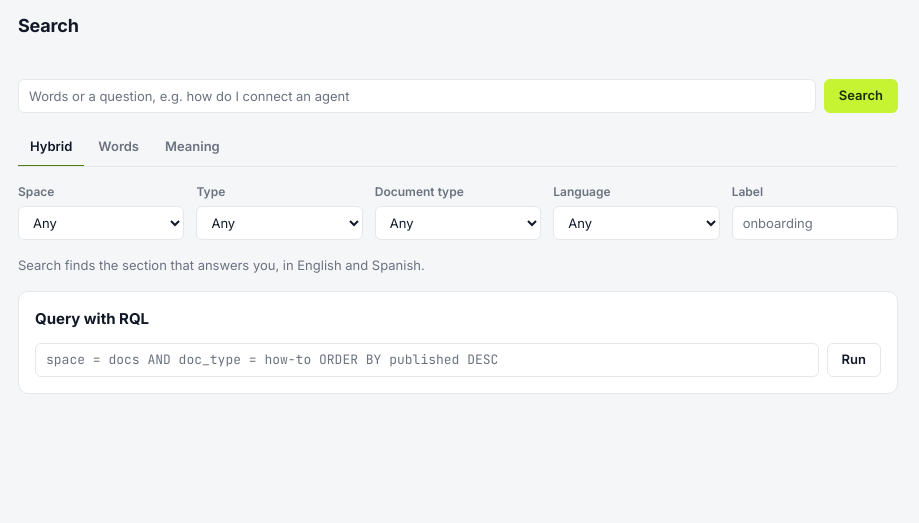
FolioSearchView › searches and shows each hit at its section
The width and height of the screenshot is (919, 523).
Type "agent" into the search field.
click(417, 96); type("agent")  # box x1=18 y1=79 x2=816 y2=113
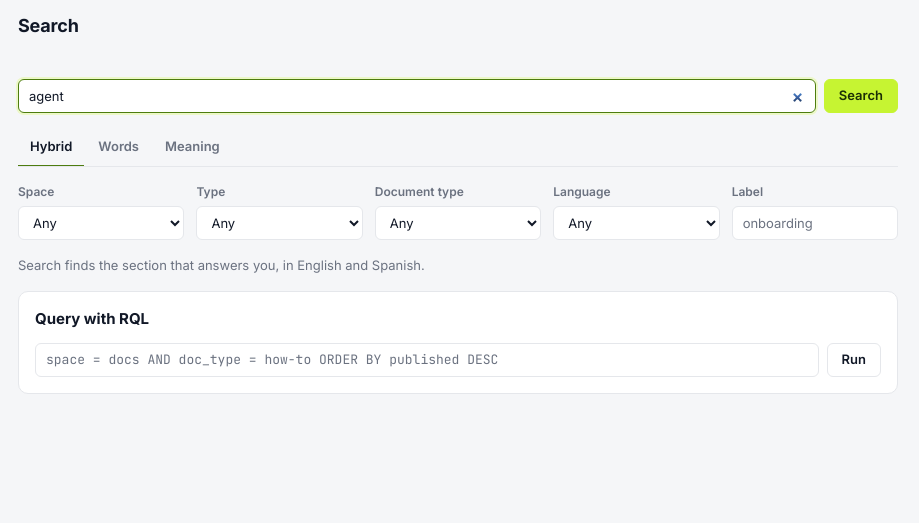
Click the button "Search".
click(861, 96)  # box x1=824 y1=79 x2=898 y2=113
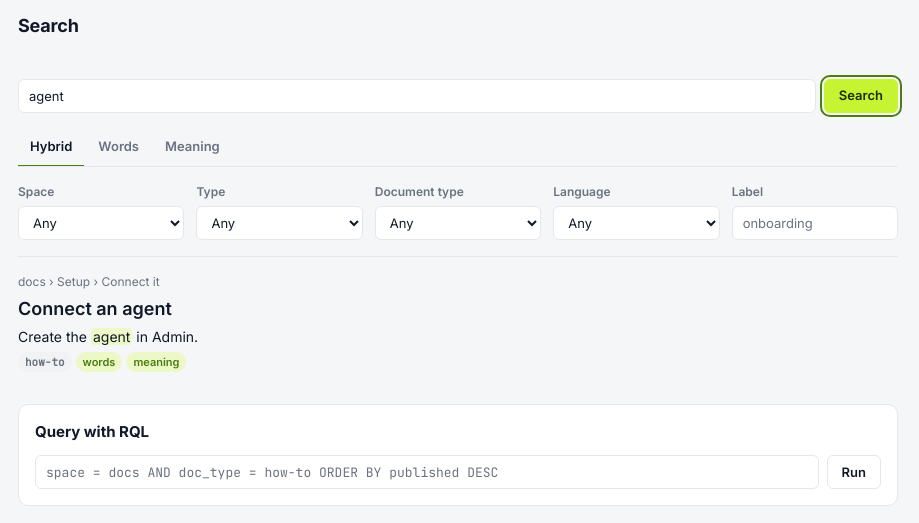
Check: the text "docs › Setup › Connect it" is shown, box x1=18 y1=274 x2=160 y2=288
Check: the text "agent" is shown, box x1=91 y1=328 x2=132 y2=344
Check: the text "words" is shown, box x1=76 y1=352 x2=122 y2=372
